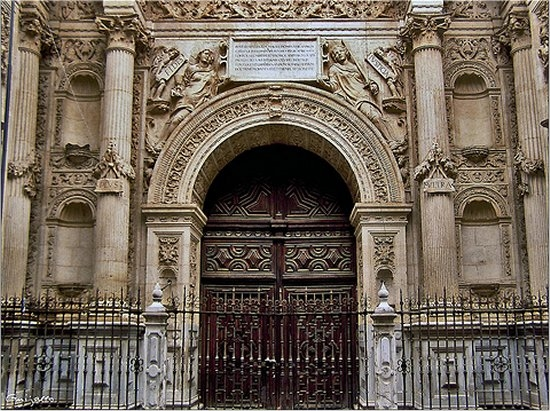arco-medio-punto: (182, 117, 374, 234)
